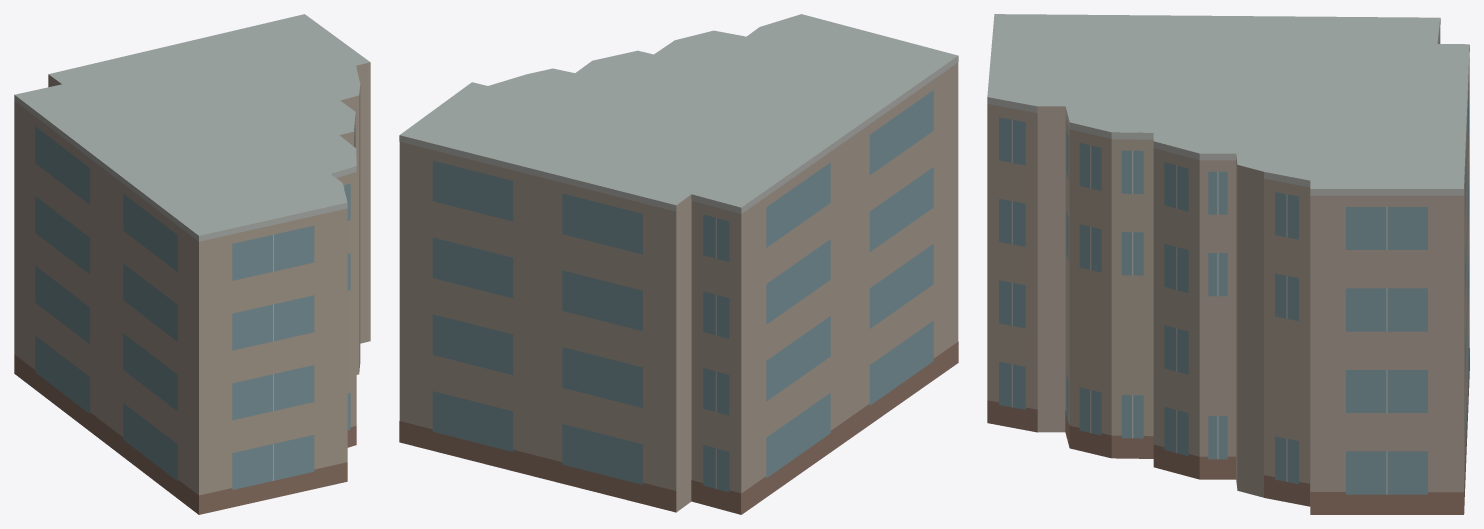
The model's file is survey-upis-32618354.glb.
The picture shows the model from 3 angles, left to right: view 1: azimuth 30°, elevation 25°; view 2: azimuth 150°, elevation 25°; view 3: azimuth 270°, elevation 25°; orthographic projection. The views are drawn at different scales.
Visible parts, largest first — view 1: survey-upis-32618354.tmp; view 2: survey-upis-32618354.tmp; view 3: survey-upis-32618354.tmp.
Boxes of the visible parts, x1=… form: survey-upis-32618354.tmp: x1=14, y1=14, x2=370, y2=514; survey-upis-32618354.tmp: x1=399, y1=14, x2=958, y2=514; survey-upis-32618354.tmp: x1=987, y1=14, x2=1469, y2=514.
Size of the model in its own units: 13.42 by 11.65 by 15.64.
